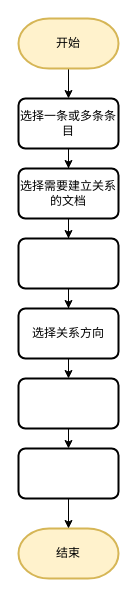
This 136x596 diagram has some shape labels left out. The box of each missing label's shape, as (x1, y1, x2, y2) in pixels:
创建条目间的关联关系: (17, 447, 119, 499)
选择关系类型: (17, 377, 119, 429)
选择文档下一条或多条 条目: (17, 237, 119, 289)
